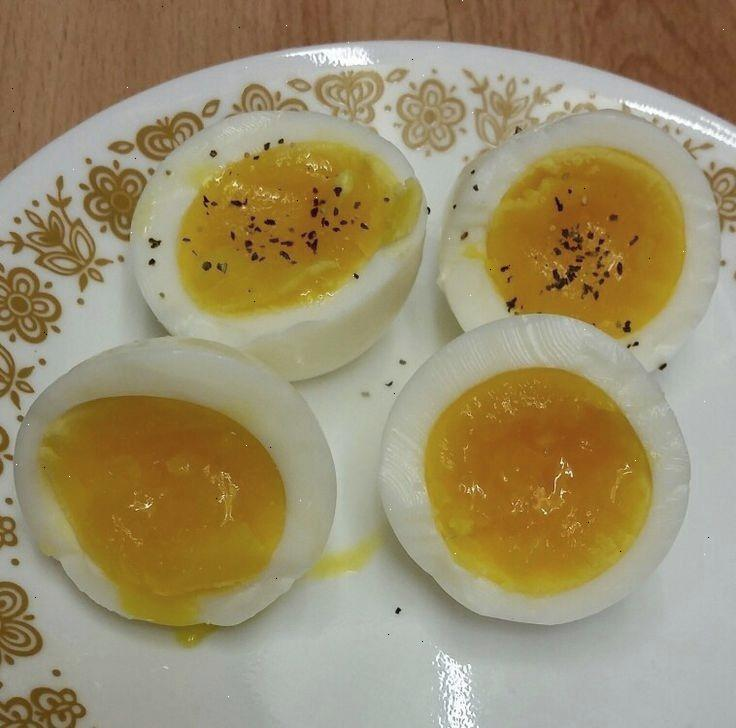eggs: (47, 109, 736, 622)
